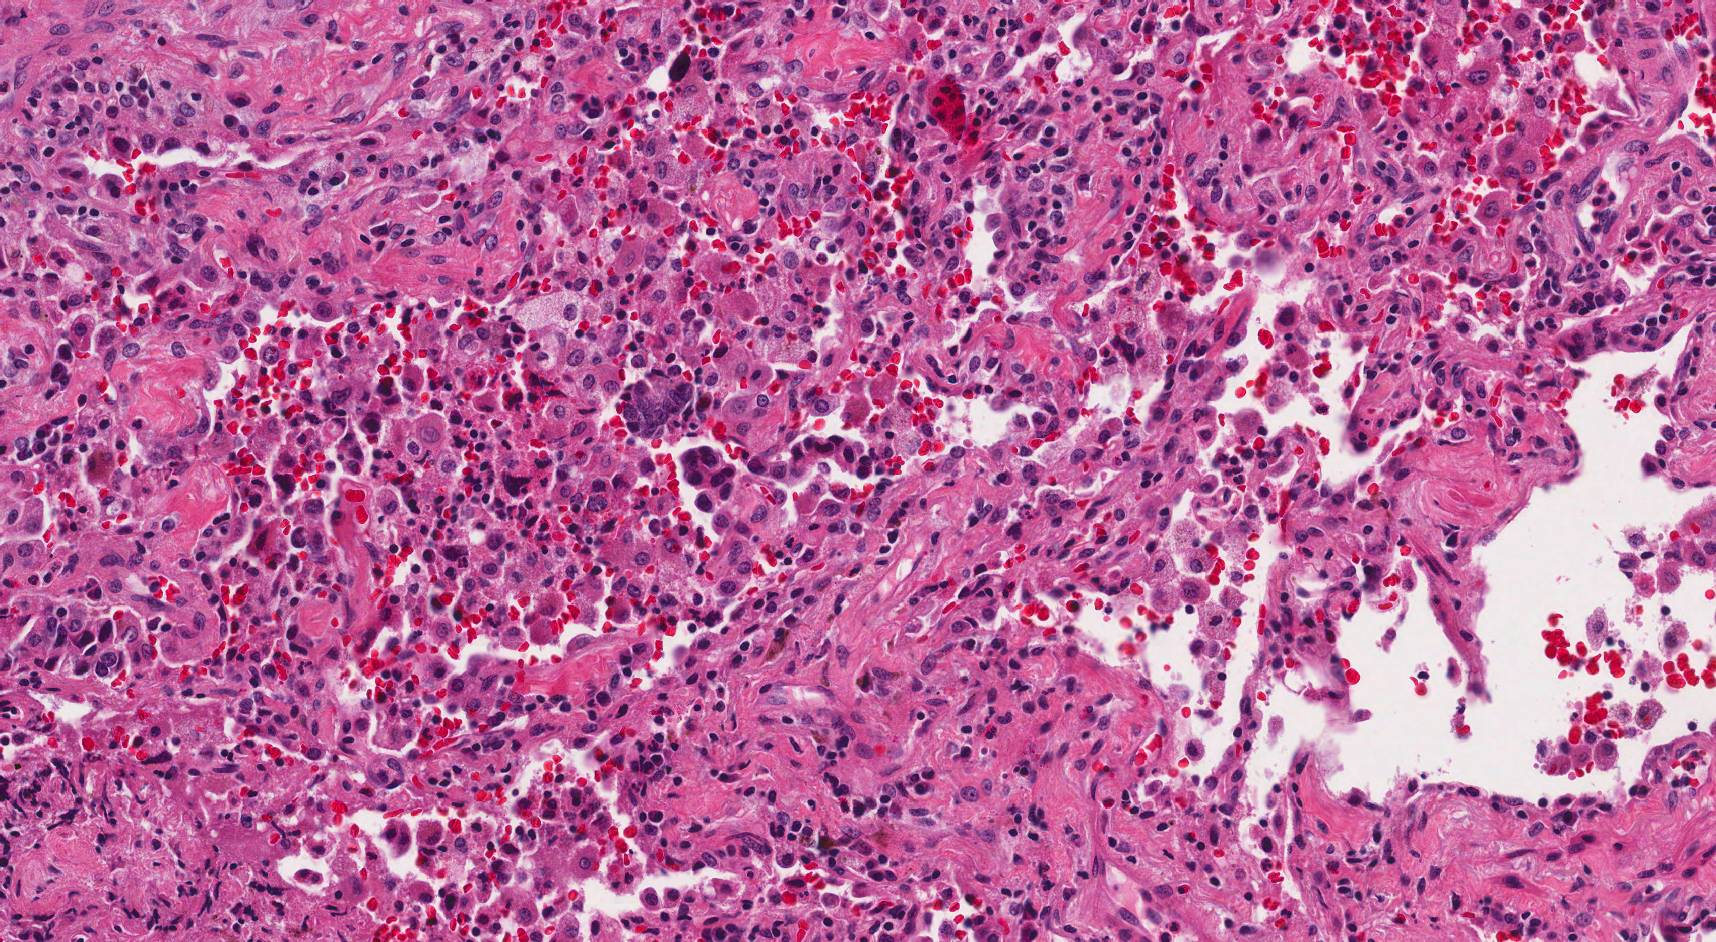stas: (22, 610, 124, 678), (738, 434, 872, 479), (622, 370, 695, 439), (679, 445, 740, 510)
